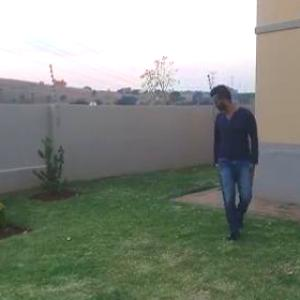follow: (211, 77, 269, 248)
